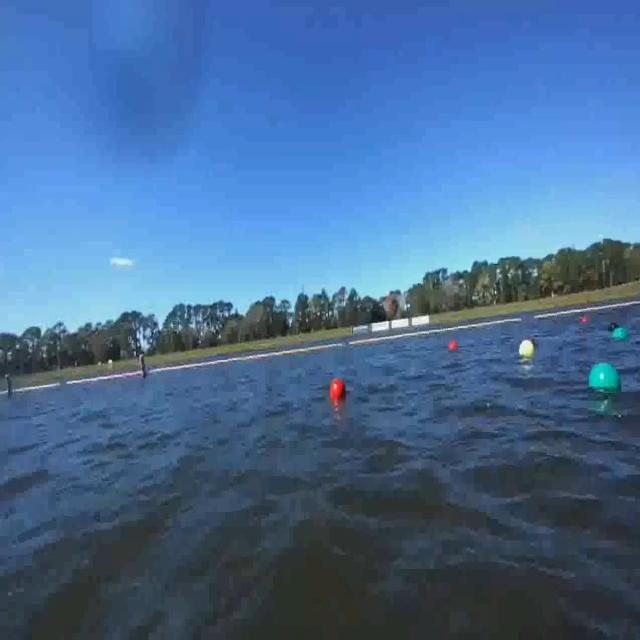green-buoy: (589, 364, 622, 398), (614, 327, 630, 341)
red-buoy: (332, 377, 348, 397), (447, 342, 456, 353), (580, 316, 590, 324)
yellow-buoy: (517, 341, 534, 358)
